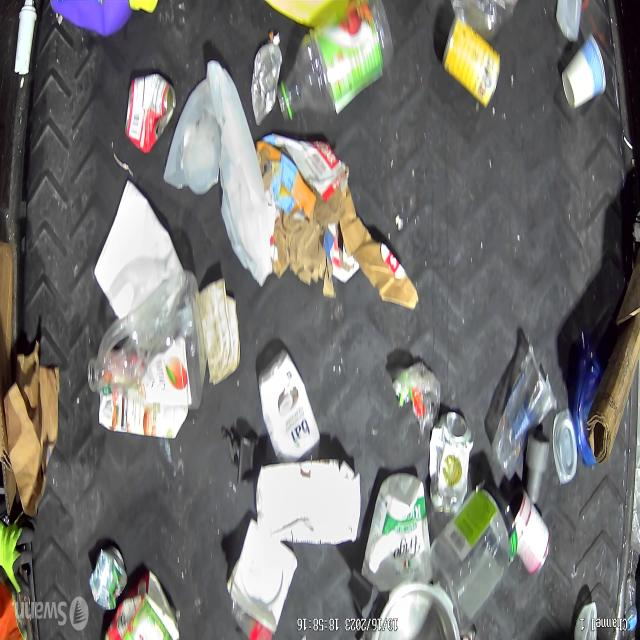can: (442, 18, 502, 106), (429, 411, 474, 516), (126, 76, 176, 154), (509, 488, 551, 578), (251, 40, 283, 126), (89, 548, 129, 611)
milk_jug: (205, 60, 273, 288), (256, 461, 362, 546)
non_white_jug: (88, 271, 206, 409), (104, 570, 178, 640), (98, 390, 188, 441), (572, 330, 602, 468), (49, 0, 158, 37)
plastic_bottle: (278, 0, 394, 122), (624, 578, 636, 640)
